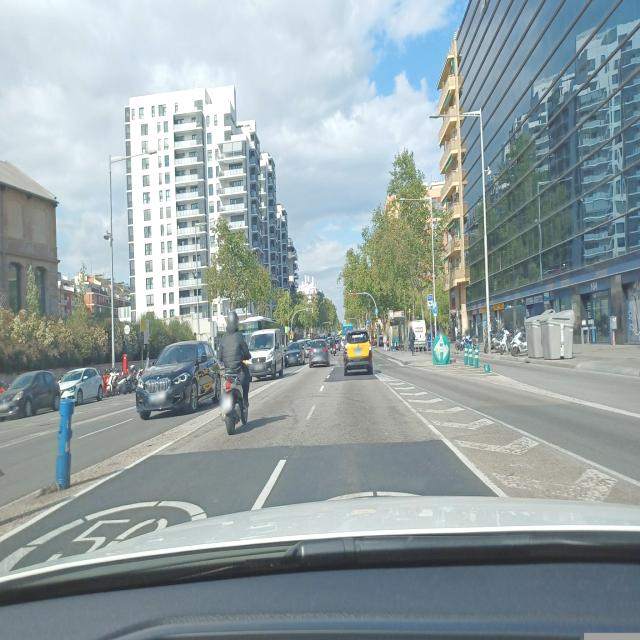bike: (222, 352, 254, 436), (509, 331, 528, 356), (460, 334, 479, 351), (500, 329, 511, 354), (333, 344, 336, 355), (330, 343, 333, 354)
car: (135, 339, 221, 420), (0, 369, 61, 420), (248, 328, 285, 381), (59, 367, 103, 404), (343, 328, 373, 377), (308, 337, 330, 367), (284, 340, 304, 368), (303, 339, 312, 359)
